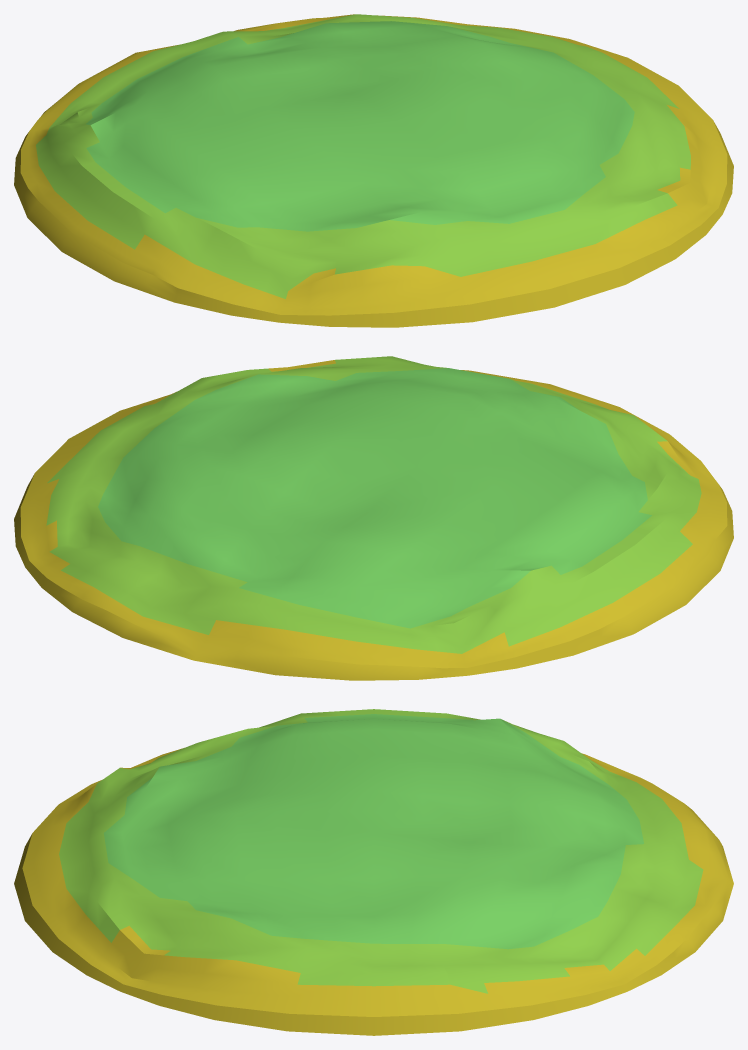
The model's file is Island.glb.
The picture shows the model from 3 angles, top to bottom: view 1: azimuth 30°, elevation 25°; view 2: azimuth 150°, elevation 25°; view 3: azimuth 270°, elevation 25°; orthographic projection.
Visible parts, largest first — view 1: Cube; view 2: Cube; view 3: Cube.
Boxes of the visible parts, x1,y1,x2,y2 form: Cube: [14, 14, 733, 327]; Cube: [14, 356, 733, 680]; Cube: [14, 709, 733, 1035].
Size of the model in its own units: 244 by 27.05 by 244.
